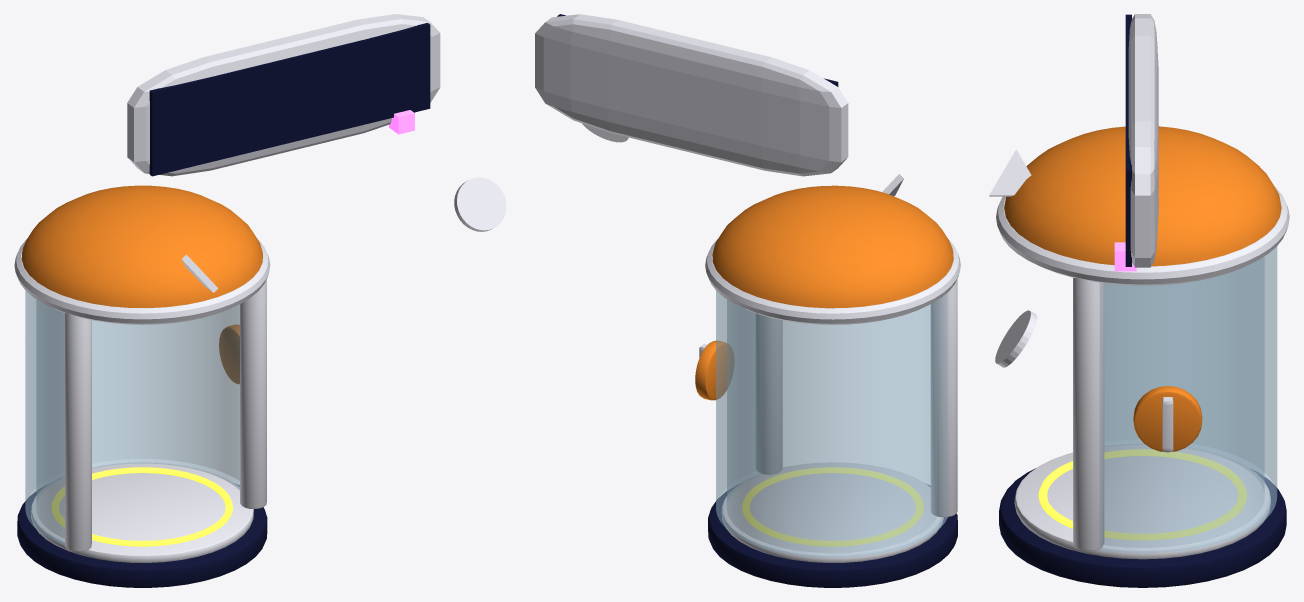
Rendered from LobbyCapsule.fbx.
The picture shows the model from 3 angles, left to right: view 1: azimuth 30°, elevation 25°; view 2: azimuth 150°, elevation 25°; view 3: azimuth 270°, elevation 25°; orthographic projection. The views are drawn at different scales.
Parts seen in each view (by area): view 1: LobbyCapsule, Capsule_Marquee, Capsule_Emblem_Circle; view 2: LobbyCapsule, Capsule_Marquee; view 3: LobbyCapsule, Capsule_Marquee, Capsule_Emblem_Circle, Capsule_Emblem_Tri.
Part boxes in pixels (x1=…): LobbyCapsule: x1=14, y1=185, x2=270, y2=587; Capsule_Marquee: x1=127, y1=14, x2=440, y2=176; Capsule_Emblem_Circle: x1=454, y1=177, x2=506, y2=231; LobbyCapsule: x1=695, y1=185, x2=960, y2=587; Capsule_Marquee: x1=535, y1=14, x2=848, y2=176; LobbyCapsule: x1=996, y1=126, x2=1289, y2=587; Capsule_Marquee: x1=1114, y1=14, x2=1158, y2=271; Capsule_Emblem_Circle: x1=995, y1=310, x2=1037, y2=367; Capsule_Emblem_Tri: x1=989, y1=149, x2=1031, y2=196.
Bounding box in the file's own units: 1770 × 1870 × 962.
